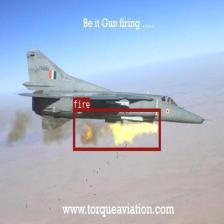fire: (73, 108, 160, 150)
